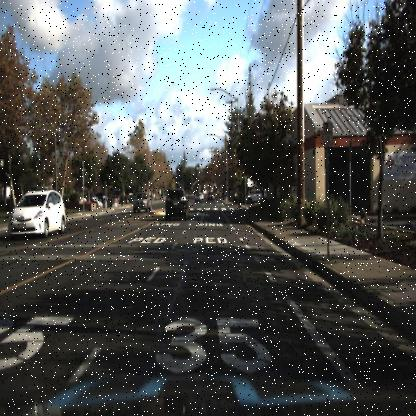car: (9, 188, 66, 238), (160, 182, 194, 230), (164, 187, 189, 221), (244, 189, 267, 207), (132, 192, 152, 212), (204, 186, 216, 202), (192, 192, 204, 205)
